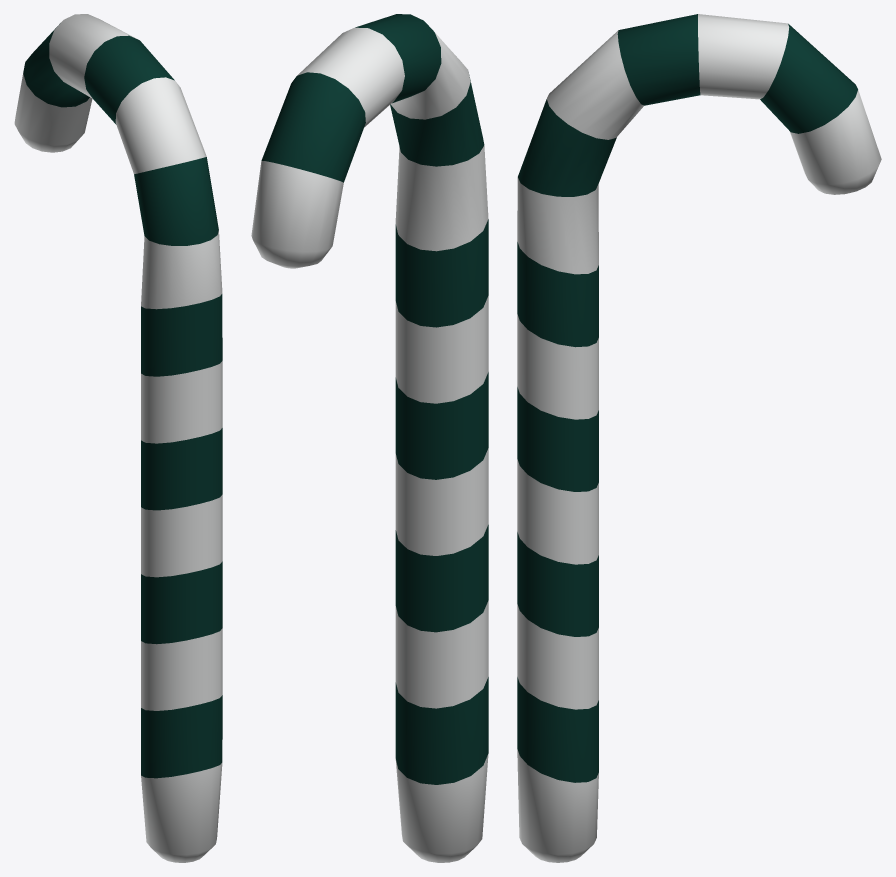
Rendered from candy.fbx.
3 renders of one model, left to right at view 1: azimuth 30°, elevation 25°; view 2: azimuth 150°, elevation 25°; view 3: azimuth 270°, elevation 25°, orthographic. The views are drawn at different scales.
Parts seen in each view (by area): view 1: candyGreen; view 2: candyGreen; view 3: candyGreen.
Boxes of the visible parts, x1=… form: candyGreen: x1=14, y1=14, x2=222, y2=862; candyGreen: x1=251, y1=14, x2=488, y2=862; candyGreen: x1=517, y1=14, x2=881, y2=862.
Bounding box in the file's own units: 0.0144 × 0.1476 × 0.0581.
